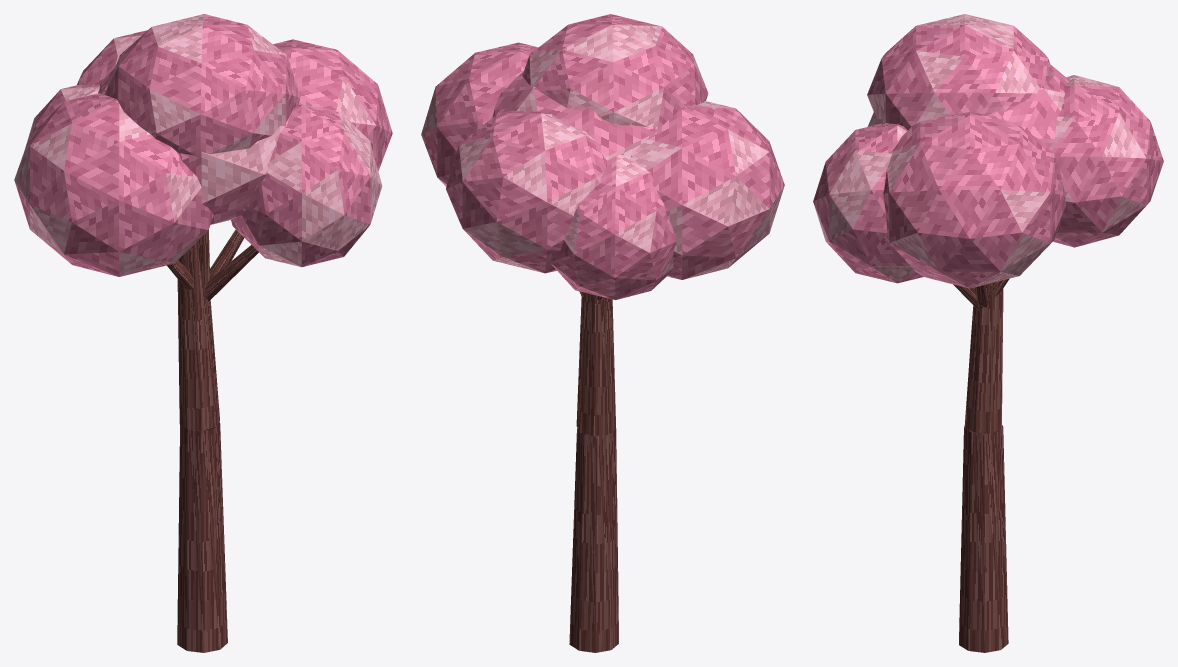
File: 03_cerezo_rosa.glb
3 renders of one model, left to right at view 1: azimuth 30°, elevation 25°; view 2: azimuth 150°, elevation 25°; view 3: azimuth 270°, elevation 25°, orthographic. The views are drawn at different scales.
Parts seen in each view (by area): view 1: world; view 2: world; view 3: world.
Part boxes in pixels (x1,y1,x2,y2): world: (14, 14, 392, 652); world: (421, 14, 784, 652); world: (813, 14, 1163, 652).
Bounding box in the file's own units: 14.45 × 25 × 12.95.
1 material, 1 textured.
